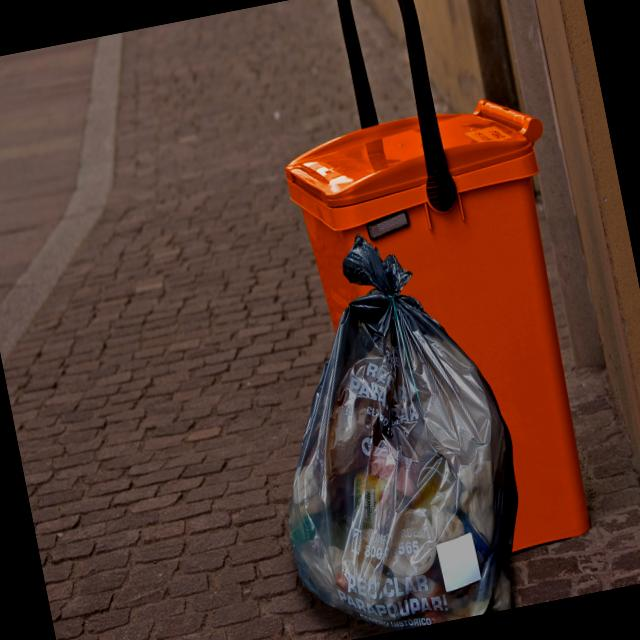garbage: (231, 189, 611, 640)
